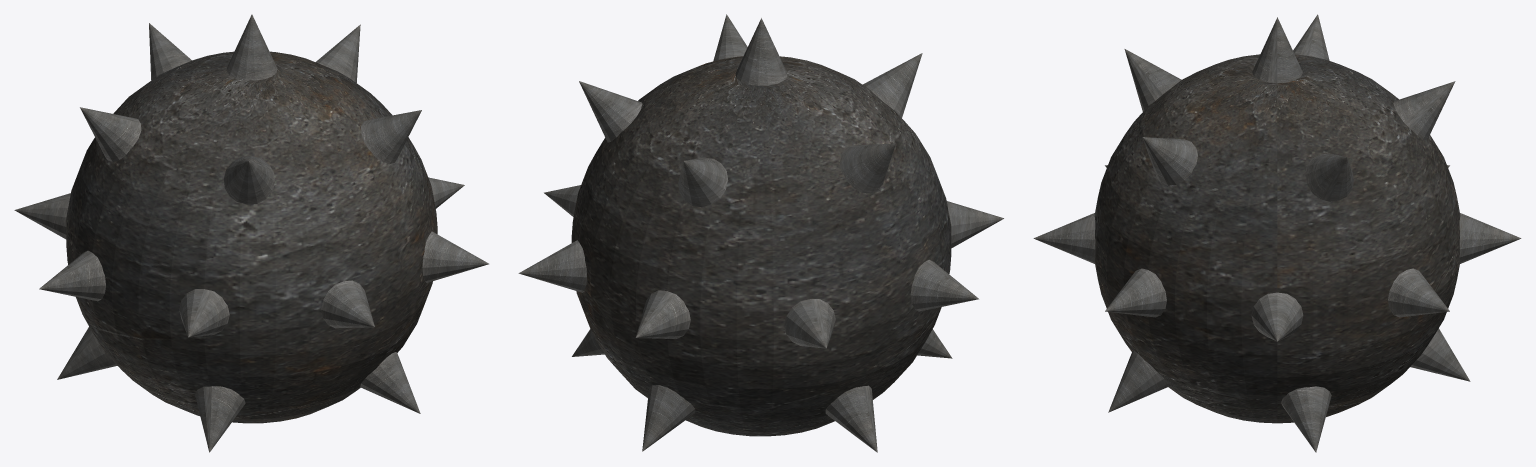
The model's file is round_head.obj.
3 views of the same model, side by side, from view 1: azimuth 30°, elevation 25°; view 2: azimuth 150°, elevation 25°; view 3: azimuth 270°, elevation 25° (orthographic). The views are drawn at different scales.
Parts seen in each view (by area): view 1: head, spike_06, spike_11, spike_04, spike_12, spike_10, spike_16, spike_05, spike_18, spike_07, spike_17, spike_15 (+4 smaller); view 2: head, spike_04, spike_02, spike_10, spike_03, spike_18, spike_09, spike_15, spike_14, spike_01, spike_08, spike_11 (+4 smaller); view 3: head, spike_01, spike_07, spike_12, spike_13, spike_00, spike_08, spike_18, spike_09, spike_17, spike_02, spike_06 (+3 smaller).
Part boxes in pixels (x1,y1,x2,y2): head: (66,51,437,423); spike_06: (321,280,374,328); spike_11: (224,155,274,204); spike_04: (39,250,105,301); spike_12: (361,110,421,164); spike_10: (80,107,141,161); spike_16: (194,386,245,452); spike_05: (179,289,229,337); spike_18: (226,14,277,80); spike_07: (422,231,488,282); spike_17: (360,352,420,413); spike_15: (57,327,117,379); head: (571,56,951,436); spike_04: (910,259,978,311); spike_02: (635,290,690,338); spike_10: (840,143,895,193); spike_03: (784,299,835,348); spike_18: (735,18,787,85); spike_09: (678,157,728,207); spike_15: (825,385,877,452); spike_14: (642,385,695,451); spike_01: (518,240,586,292); spike_08: (579,81,642,142); spike_11: (862,53,922,117); head: (1094,54,1460,423); spike_01: (1388,268,1449,317); spike_07: (1105,268,1166,317); spike_12: (1142,137,1197,185); spike_13: (1281,386,1331,452); spike_00: (1251,292,1303,341); spike_08: (1305,153,1353,201); spike_18: (1252,17,1302,83); spike_09: (1393,81,1455,139); spike_17: (1108,351,1168,412); spike_02: (1459,213,1521,263); spike_06: (1033,213,1095,263).
Size of the model in its own units: 112 by 98.47 by 112.
Materials: 2 (2 with a texture image).
